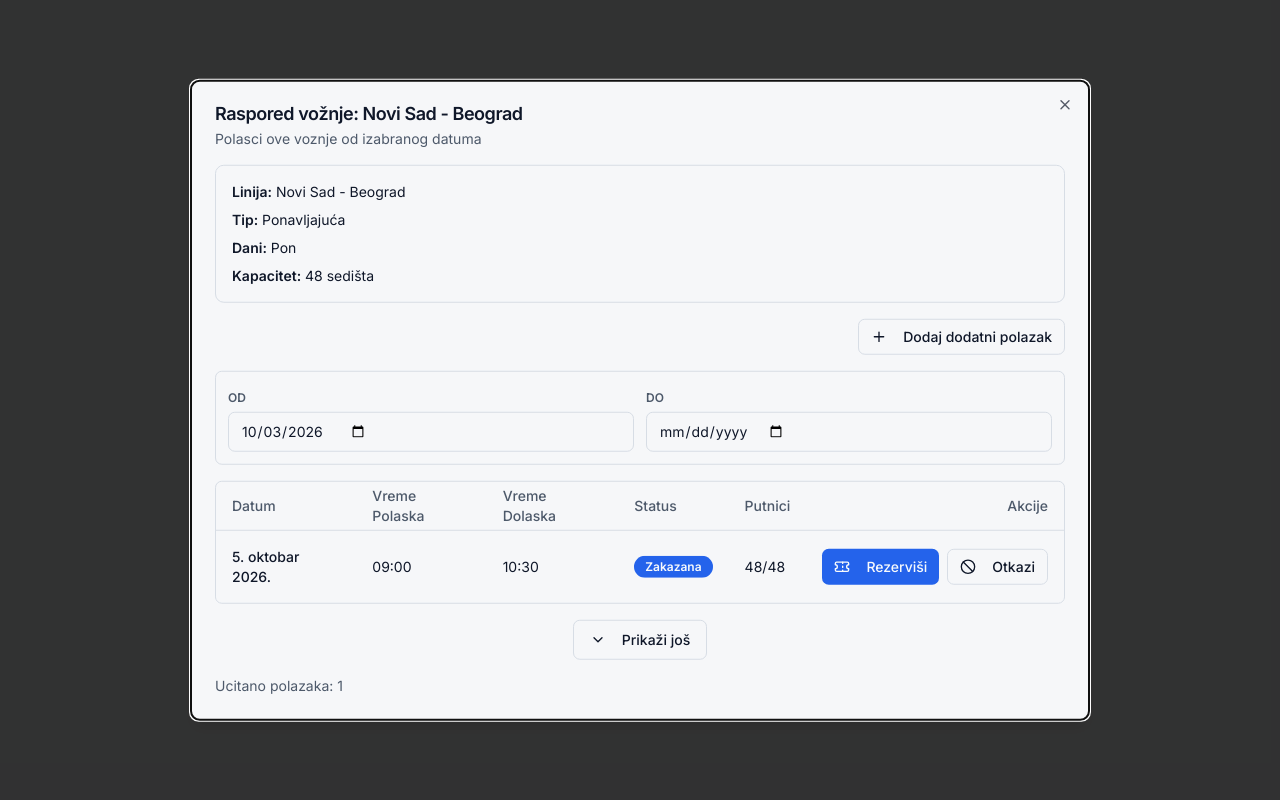
RideInstancesView › reads the next 62 days on 'show more' once the loaded departures are all shown
Expected: the number of rows is 2, x1=216 y1=482 x2=1064 y2=530; x1=216 y1=530 x2=1064 y2=602
What coordinates should you click on to do the following:
click the button "Prikaži još"
I would click on:
 (640, 639)
Its box is x1=573 y1=619 x2=707 y2=659.
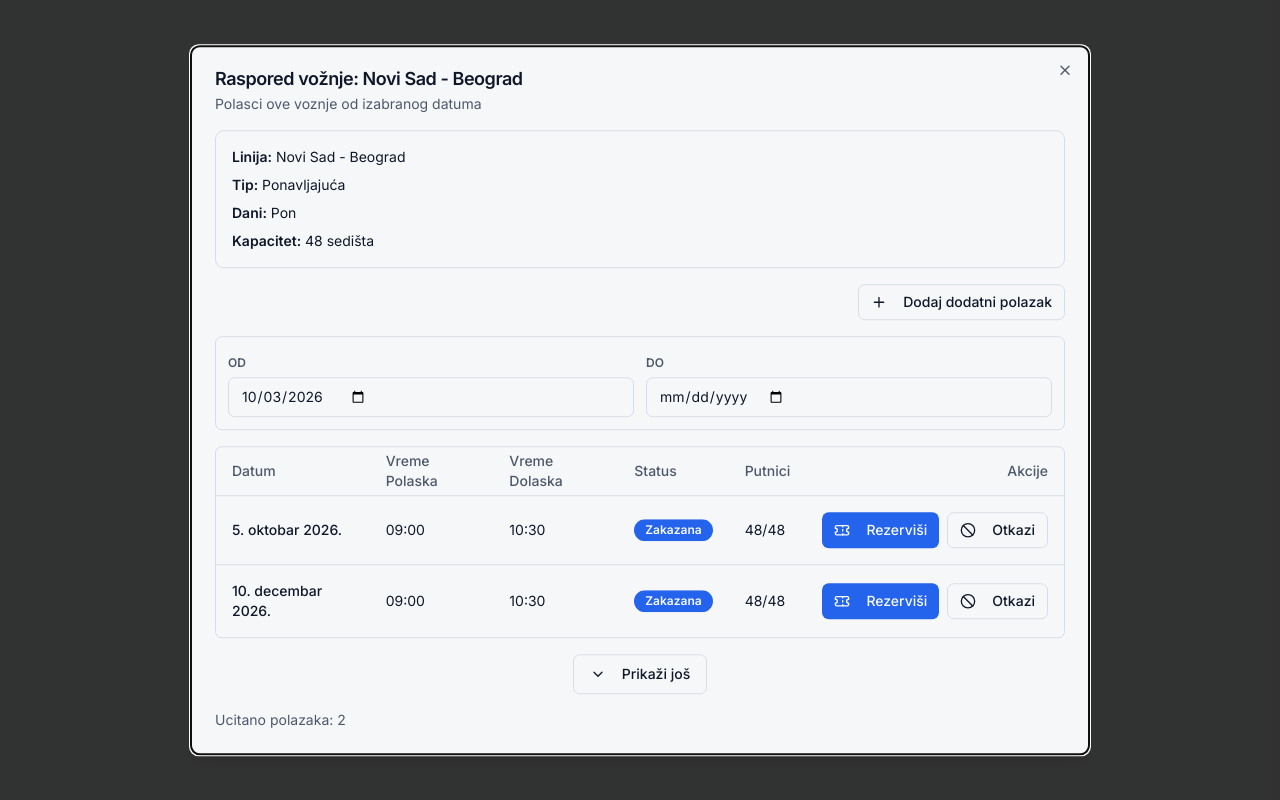
Now the number of rows is 3, box x1=216 y1=447 x2=1064 y2=495; x1=216 y1=495 x2=1064 y2=564; x1=216 y1=564 x2=1064 y2=637
